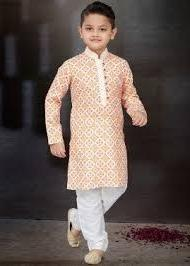Human: (35, 0, 149, 259)
